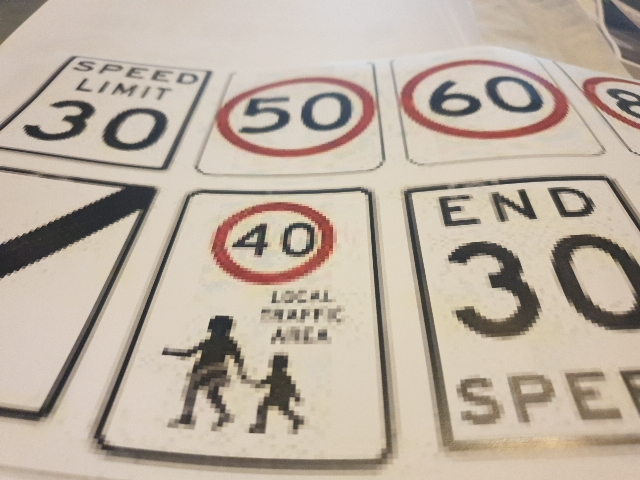sp30: (441, 235, 640, 342), (32, 89, 175, 167)
sp40: (212, 204, 341, 289)
sp50: (221, 75, 381, 156)
sp60: (403, 64, 577, 142)
